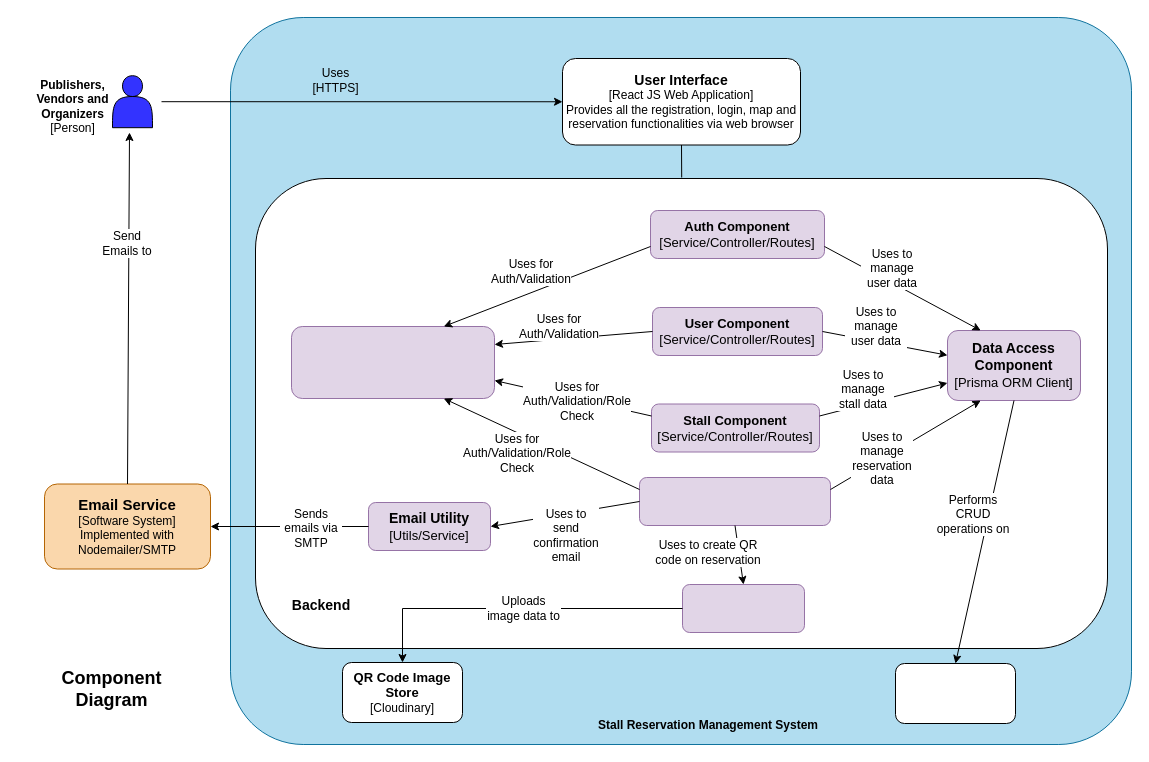
The diagram is 1149 pixels wide and 762 high, and some of its shapes have lost their labels. Each missing label, with the box of its shape:
Database [MySQL]: (894, 662, 1016, 724)
QR Utility [Utils/Service]: (682, 584, 804, 632)
Reservation Component [Service/Controller/Routes]: (638, 476, 830, 526)
Security/Validation Component [Express Middleware]: (290, 326, 494, 398)
